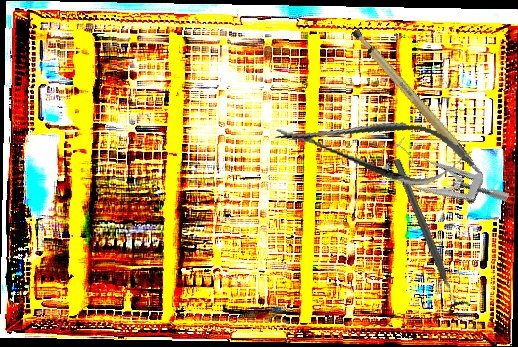Fixation Ring: (385, 154, 472, 315)
Micro Scissor: (271, 100, 479, 195)
Scalpel Handle: (348, 14, 485, 195)
Speculum: (379, 127, 511, 238)
